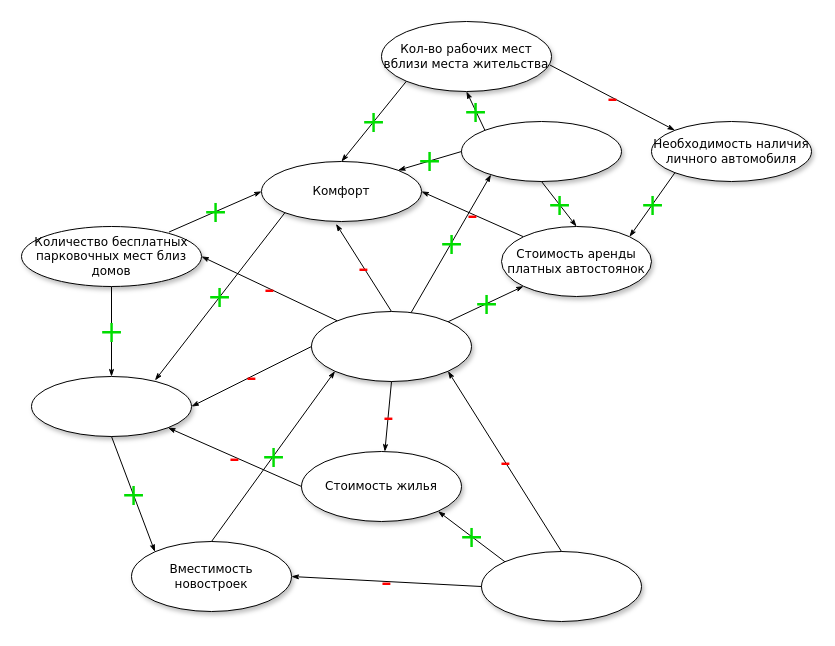
Some shapes in this 835 by 646 pixel diagram are drawn without their labels. The centre of each missing label's shape, as x and y in pixels:
Застройка частными домами: (562,587)
Плотность населения: (392,347)
Спрос на жилье: (112,408)
Уровень инфраструктуры: (542,152)
